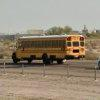Bus: (10, 30, 89, 69)
